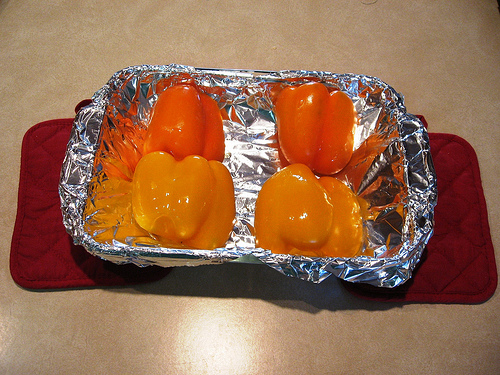capsicum: (132, 151, 234, 249), (274, 81, 356, 176), (254, 166, 334, 255), (141, 85, 225, 164)
